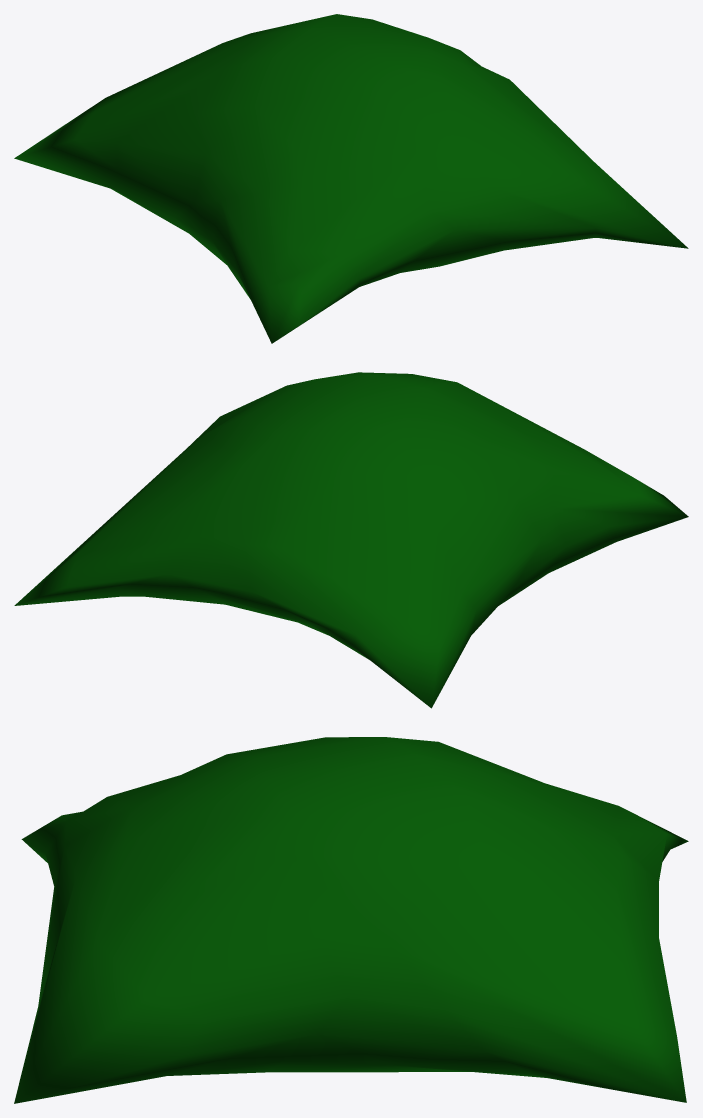
Rendered from sackful01.FBX.
The picture shows the model from 3 angles, top to bottom: view 1: azimuth 30°, elevation 25°; view 2: azimuth 150°, elevation 25°; view 3: azimuth 270°, elevation 25°; orthographic projection. The views are drawn at different scales.
Parts seen in each view (by area): view 1: SM_sackful01_0; view 2: SM_sackful01_0; view 3: SM_sackful01_0.
Part boxes in pixels (x1=…): SM_sackful01_0: x1=14, y1=14, x2=688, y2=343; SM_sackful01_0: x1=14, y1=372, x2=688, y2=708; SM_sackful01_0: x1=14, y1=737, x2=688, y2=1103.
Bounding box in the file's own units: 87.48 × 95.31 × 38.3.
